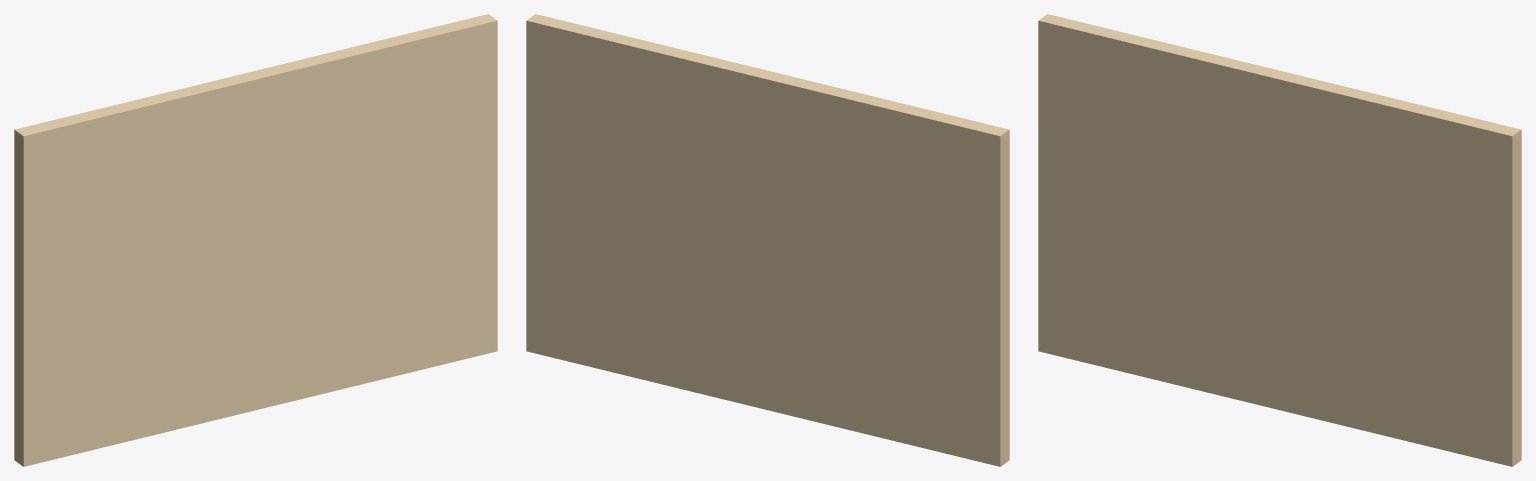
File: 3x2Wall_3DModel_1.fbx
3 views of the same model, side by side, from view 1: azimuth 30°, elevation 25°; view 2: azimuth 150°, elevation 25°; view 3: azimuth 330°, elevation 25° (orthographic).
Visible parts, largest first — view 1: House Wall with trim.002; view 2: House Wall with trim.002; view 3: House Wall with trim.002.
Part boxes in pixels (x1,y1,x2,y2): House Wall with trim.002: (14, 14, 497, 466); House Wall with trim.002: (526, 14, 1009, 466); House Wall with trim.002: (1038, 14, 1521, 466).
Bounding box in the file's own units: 600 × 400 × 20.
